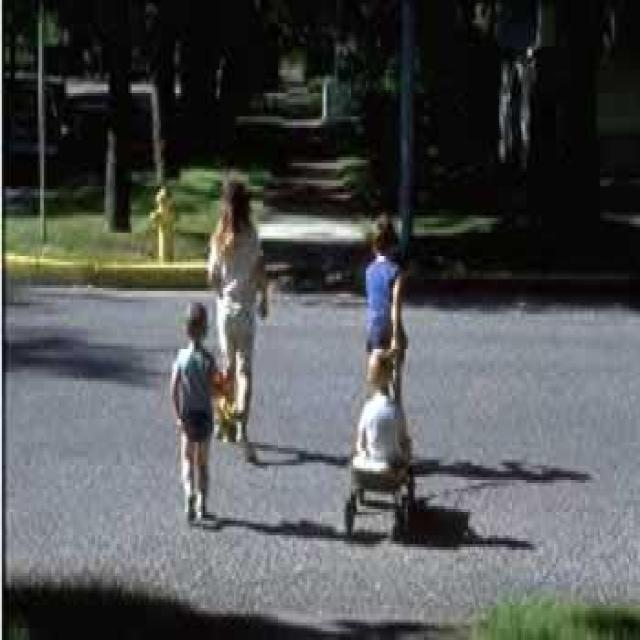person: (206, 169, 272, 451), (166, 302, 230, 532), (344, 342, 422, 513), (356, 214, 420, 365)
